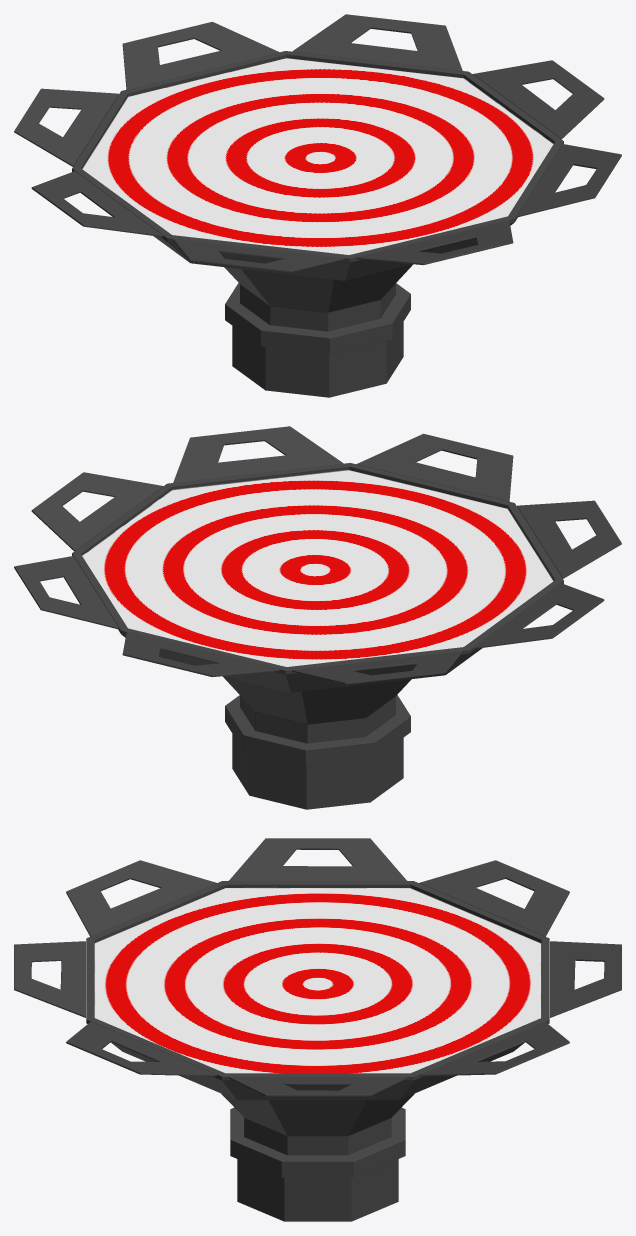
The model's file is LandingPad_02.glb.
3 renders of one model, top to bottom at view 1: azimuth 30°, elevation 25°; view 2: azimuth 150°, elevation 25°; view 3: azimuth 270°, elevation 25°, orthographic.
Visible parts, largest first — view 1: Cylinder.001; view 2: Cylinder.001; view 3: Cylinder.001.
Boxes of the visible parts, x1,y1,x2,y2 form: Cylinder.001: (14, 14, 621, 397); Cylinder.001: (14, 426, 621, 809); Cylinder.001: (14, 838, 621, 1221).
Bounding box in the file's own units: 5.35 × 2.15 × 5.35.
1 material, 1 textured.
